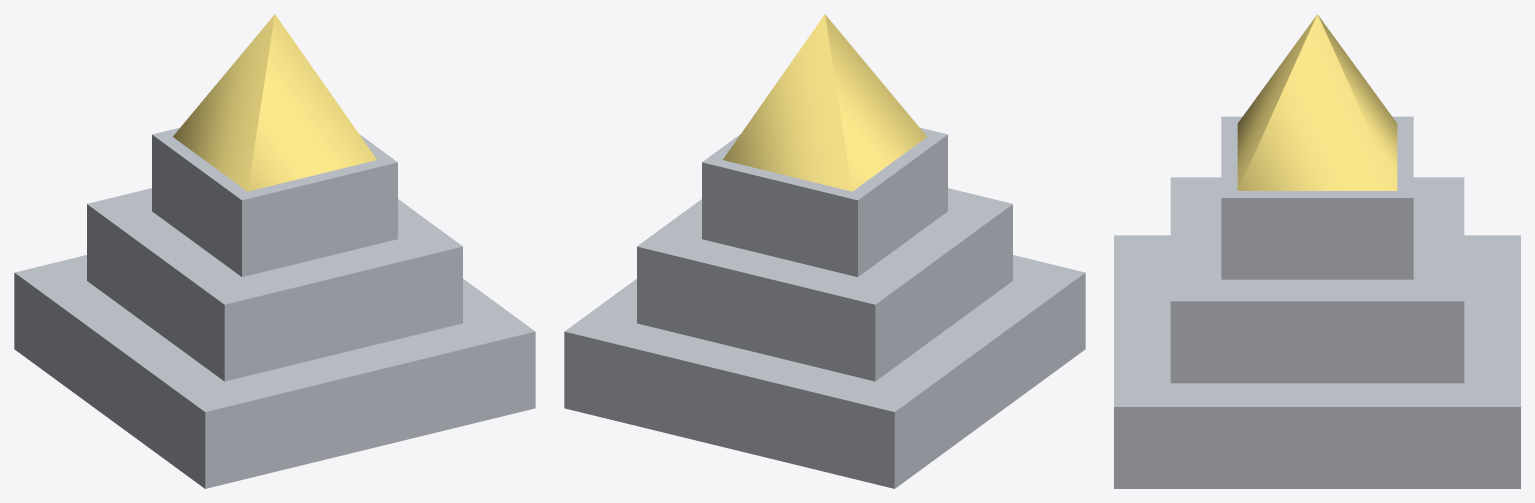
File: temple_pyramid.glb
3 renders of one model, left to right at view 1: azimuth 30°, elevation 25°; view 2: azimuth 150°, elevation 25°; view 3: azimuth 270°, elevation 25°, orthographic. The views are drawn at different scales.
Size of the model in its own units: 1.8 by 1.9 by 1.8.
